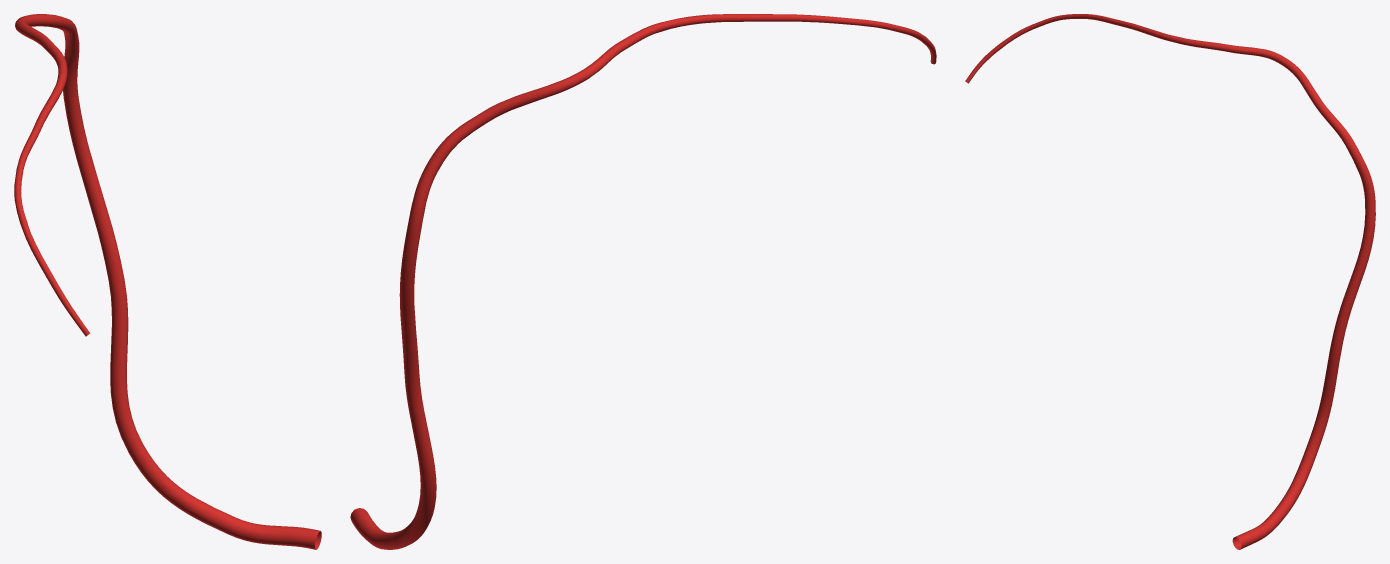
File: circulatorio-inferior-phrenic-artery.glb
The picture shows the model from 3 angles, left to right: view 1: azimuth 30°, elevation 25°; view 2: azimuth 150°, elevation 25°; view 3: azimuth 270°, elevation 25°; orthographic projection. The views are drawn at different scales.
Parts seen in each view (by area): view 1: Inferior phrenic artery; view 2: Inferior phrenic artery; view 3: Inferior phrenic artery.
Part boxes in pixels (box(x1,y1,x2,y2)): Inferior phrenic artery: box(14, 14, 321, 549); Inferior phrenic artery: box(350, 14, 936, 549); Inferior phrenic artery: box(965, 14, 1375, 549).
Bounding box in the file's own units: 0.0888 × 0.1107 × 0.1003.
